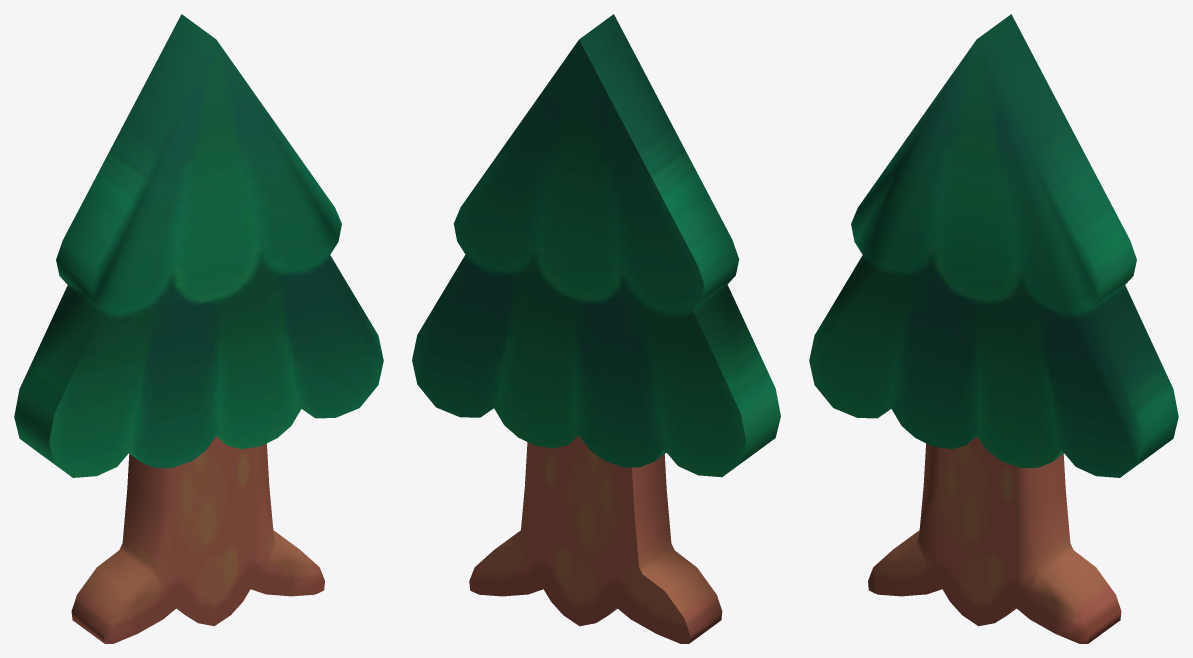
3 views of the same model, side by side, from view 1: azimuth 30°, elevation 25°; view 2: azimuth 150°, elevation 25°; view 3: azimuth 330°, elevation 25° (orthographic).
Parts seen in each view (by area): view 1: CedarLeaf__mUnitIconPltTreeCedar; view 2: CedarLeaf__mUnitIconPltTreeCedar; view 3: CedarLeaf__mUnitIconPltTreeCedar.
Boxes of the visible parts, bbox=[...] form: CedarLeaf__mUnitIconPltTreeCedar: bbox=[14, 14, 383, 643]; CedarLeaf__mUnitIconPltTreeCedar: bbox=[412, 14, 780, 643]; CedarLeaf__mUnitIconPltTreeCedar: bbox=[809, 14, 1178, 643].
Bounding box in the file's own units: 2.64 × 4.43 × 0.4755.
1 material, 1 textured.
